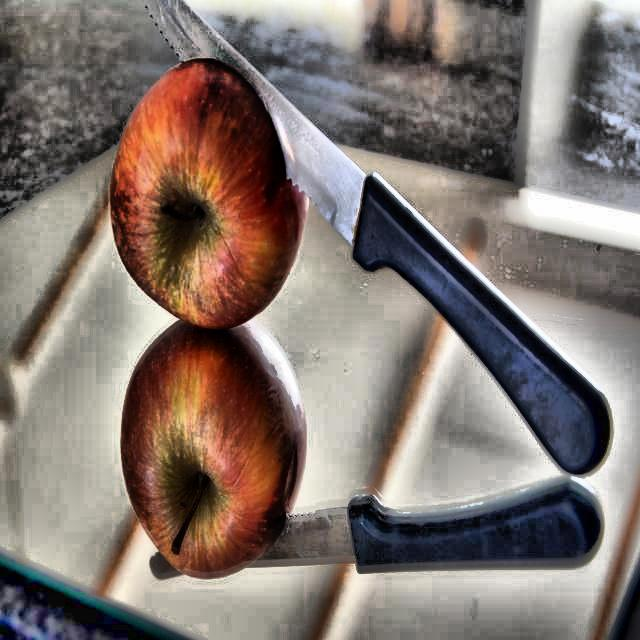knife: (144, 0, 626, 483), (146, 462, 609, 588)
